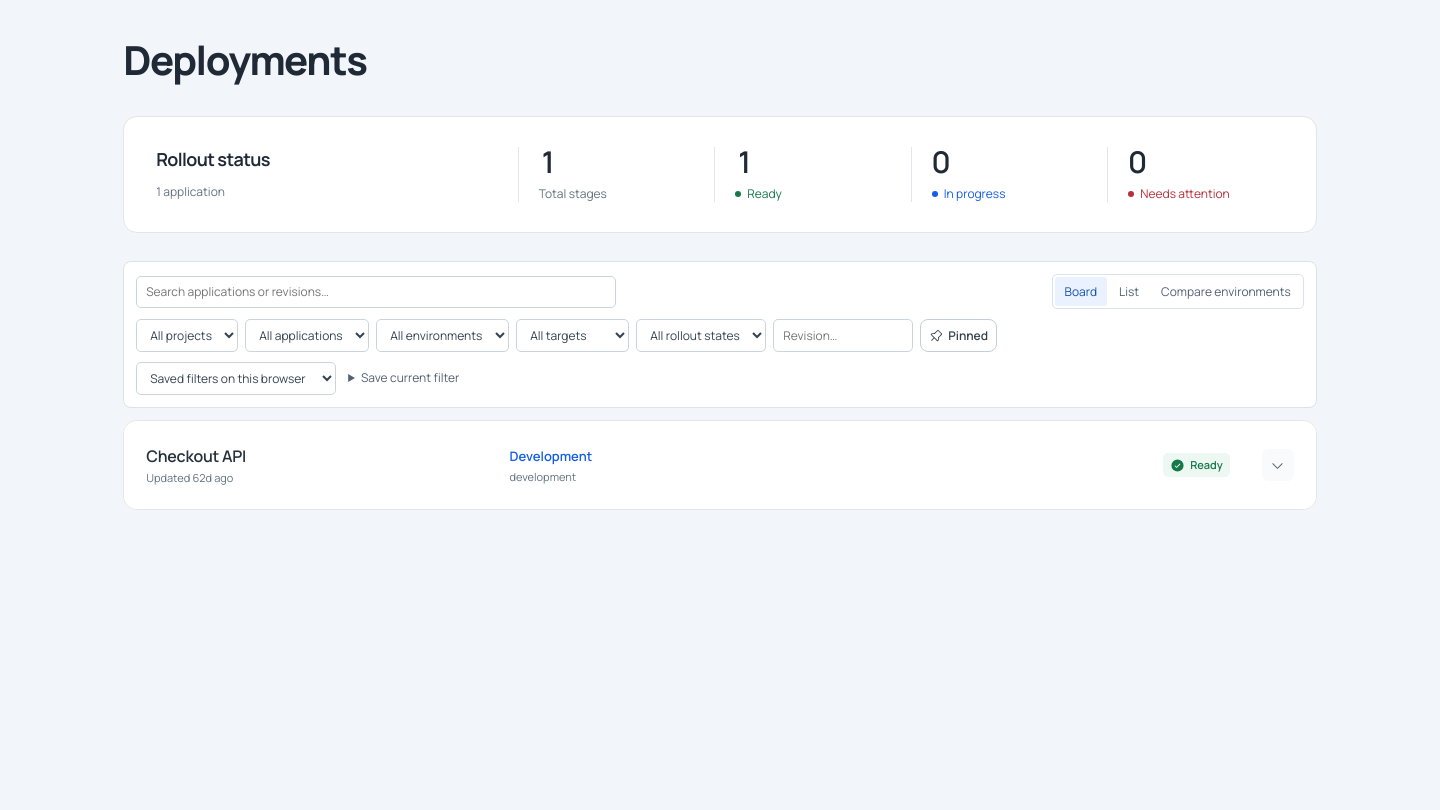
deployment navigation › keeps every recent run available and can reveal the full list
This screenshot has width=1440, height=810.
Step 1. Click the button named "Expand Checkout API deployment" → (1278, 465), box [1262, 449, 1294, 481]
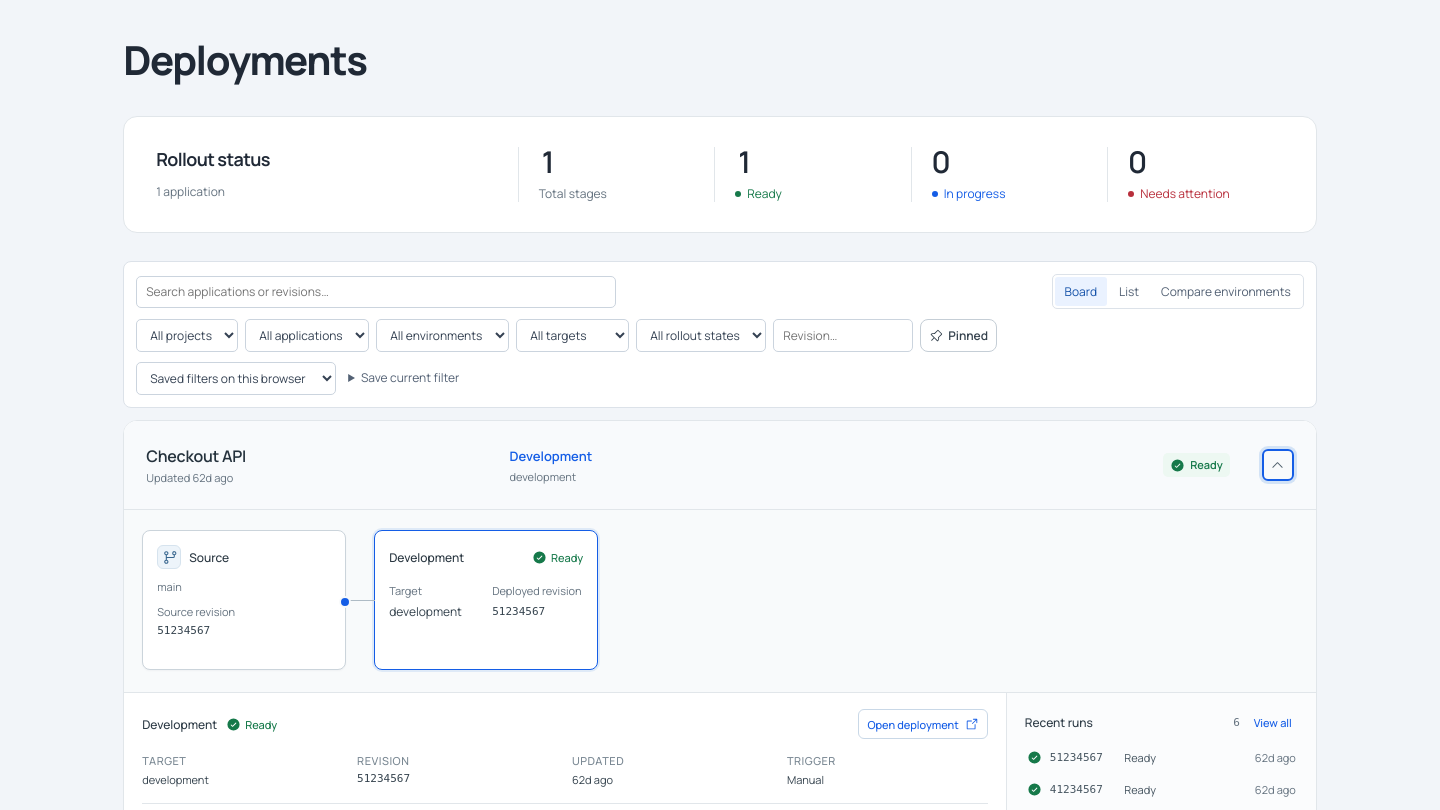
Step 2. Click the button "View all" → (1273, 722), box [1248, 709, 1298, 735]
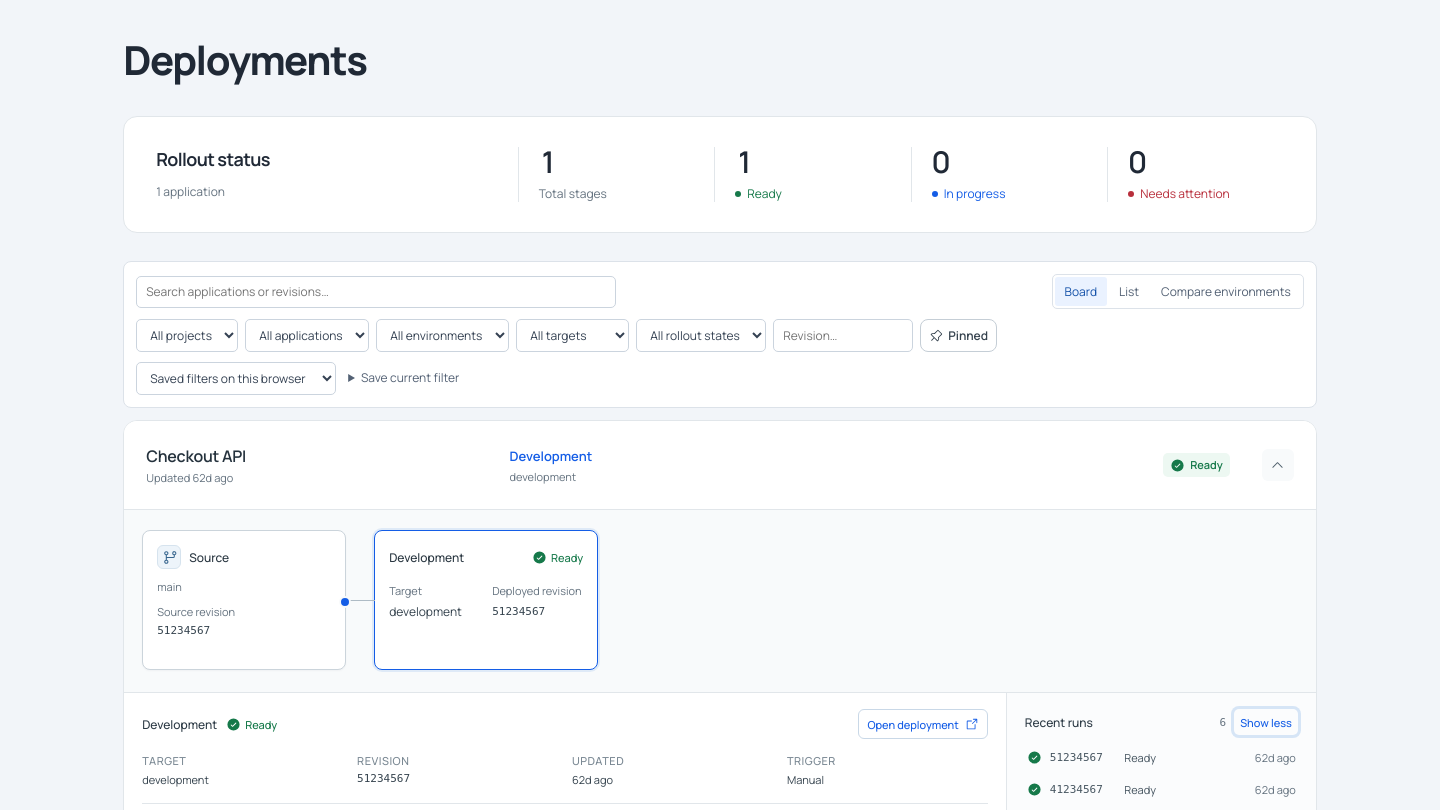
Result: the button "Show less" is expanded at [1234, 709, 1298, 735]
